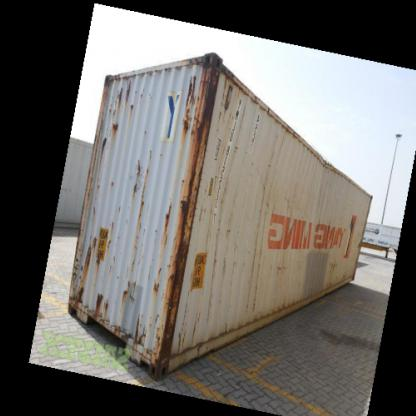Damage: (148, 190, 193, 364), (178, 63, 226, 182), (100, 71, 136, 133), (72, 232, 105, 264), (88, 286, 114, 316), (130, 154, 149, 192), (270, 255, 290, 275)
